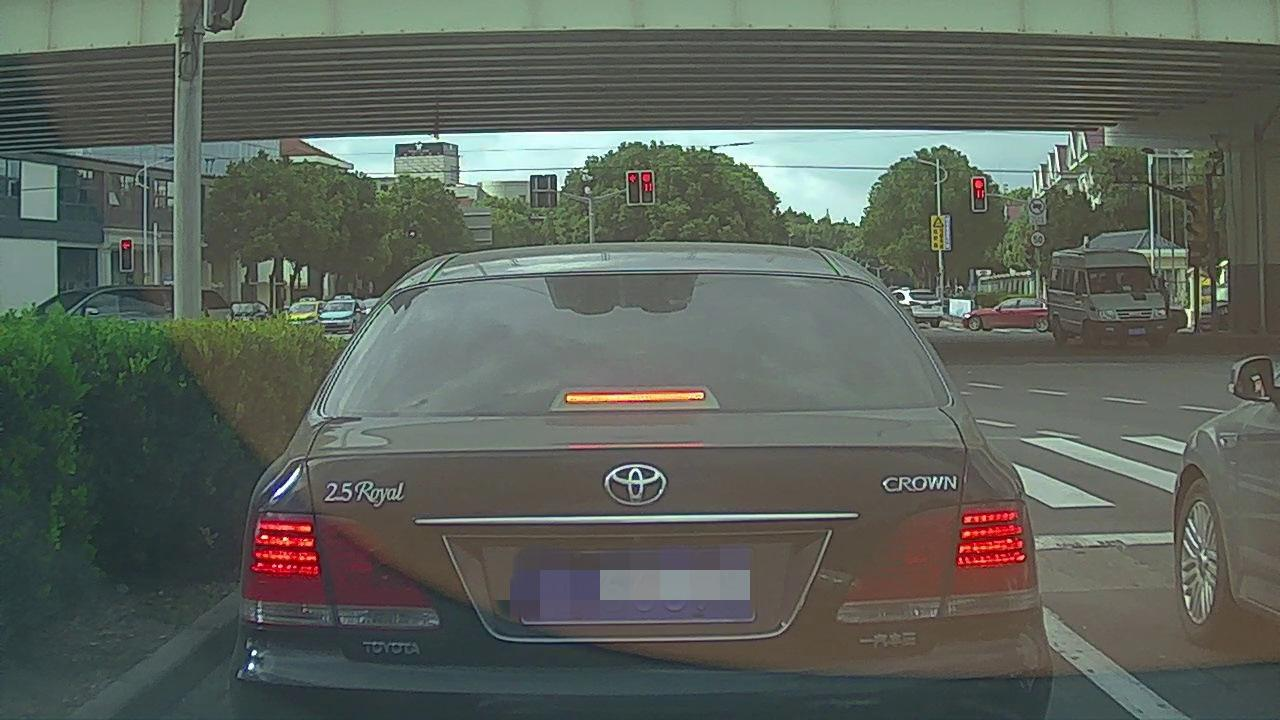traffic_light: (640, 170, 655, 205), (971, 179, 986, 210), (627, 173, 641, 203), (119, 241, 132, 271)
